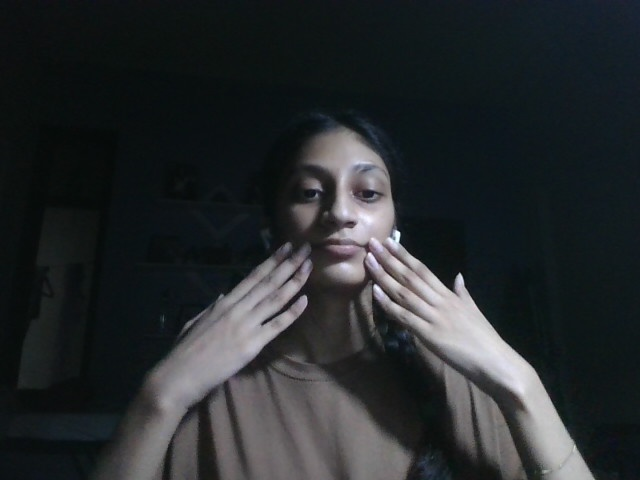thank you: (144, 237, 534, 407)
